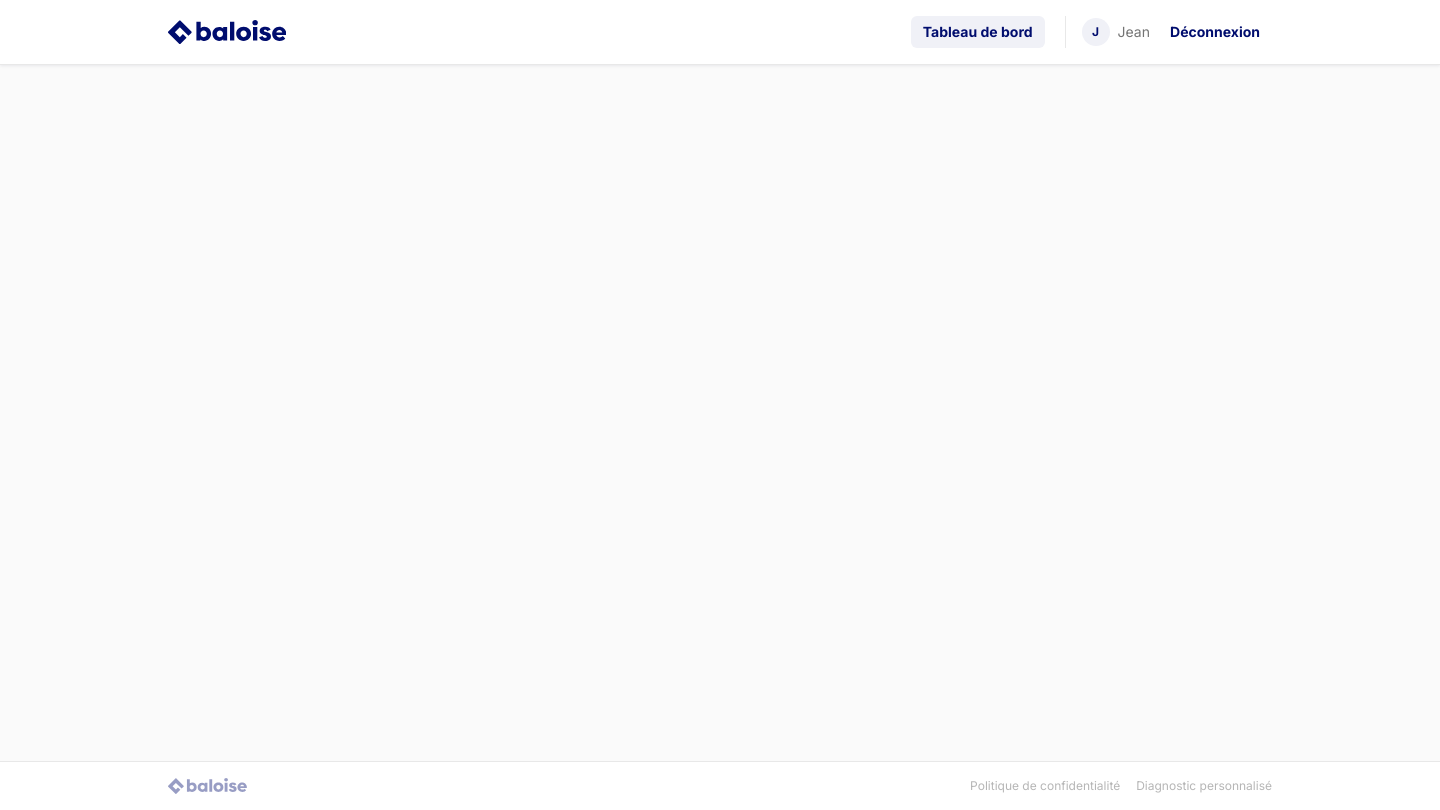
Test: ClientLayout › shows error when signOut fails
The width and height of the screenshot is (1440, 810).
Click the button "Déconnexion" at (1215, 32), box left=1158, top=16, right=1272, bottom=48
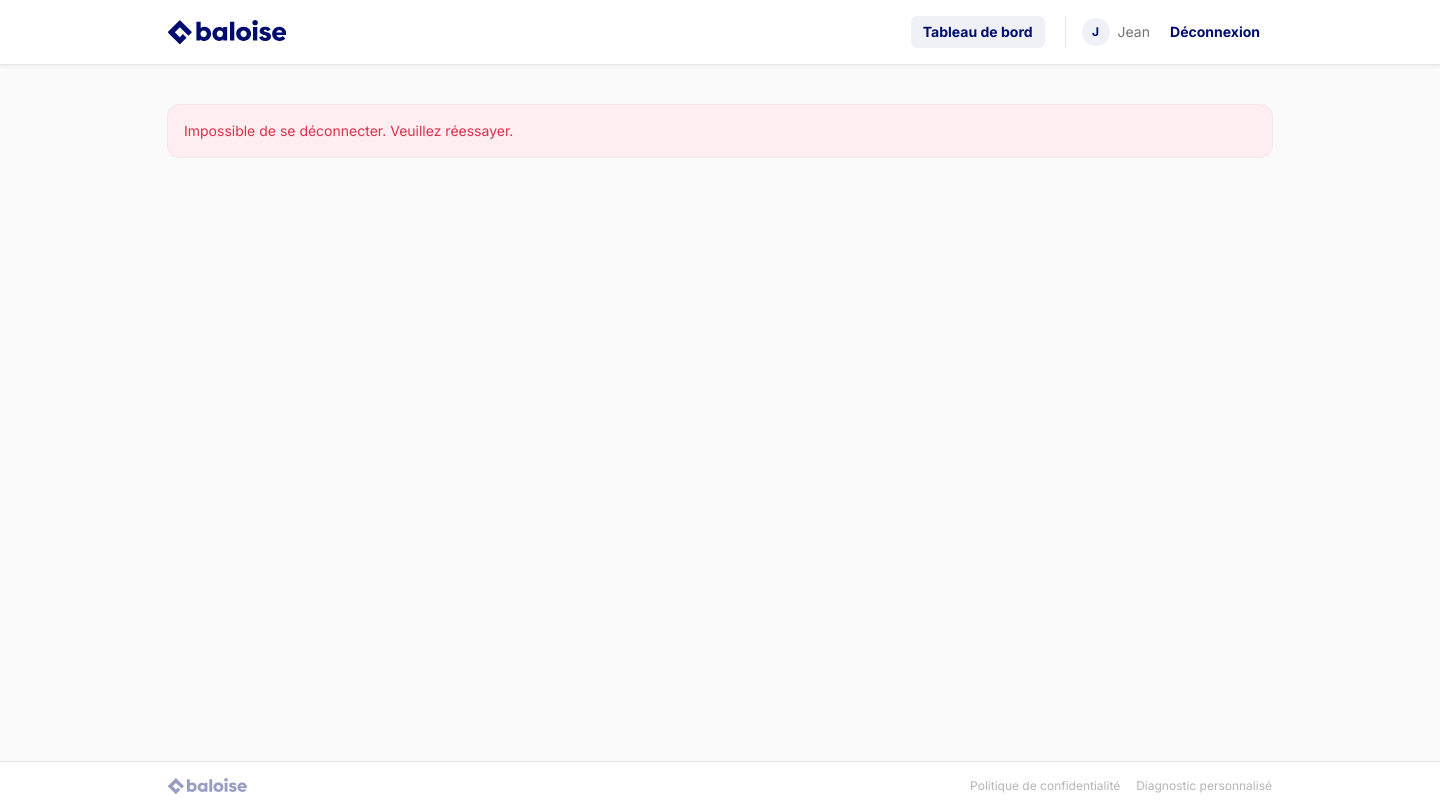
Result: the text "Impossible de se déconnecter. Veuillez réessayer." is shown at left=184, top=122, right=513, bottom=139
